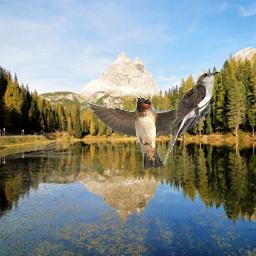Cuckoo: (164, 71, 220, 165)
Swallow: (80, 95, 215, 170)
